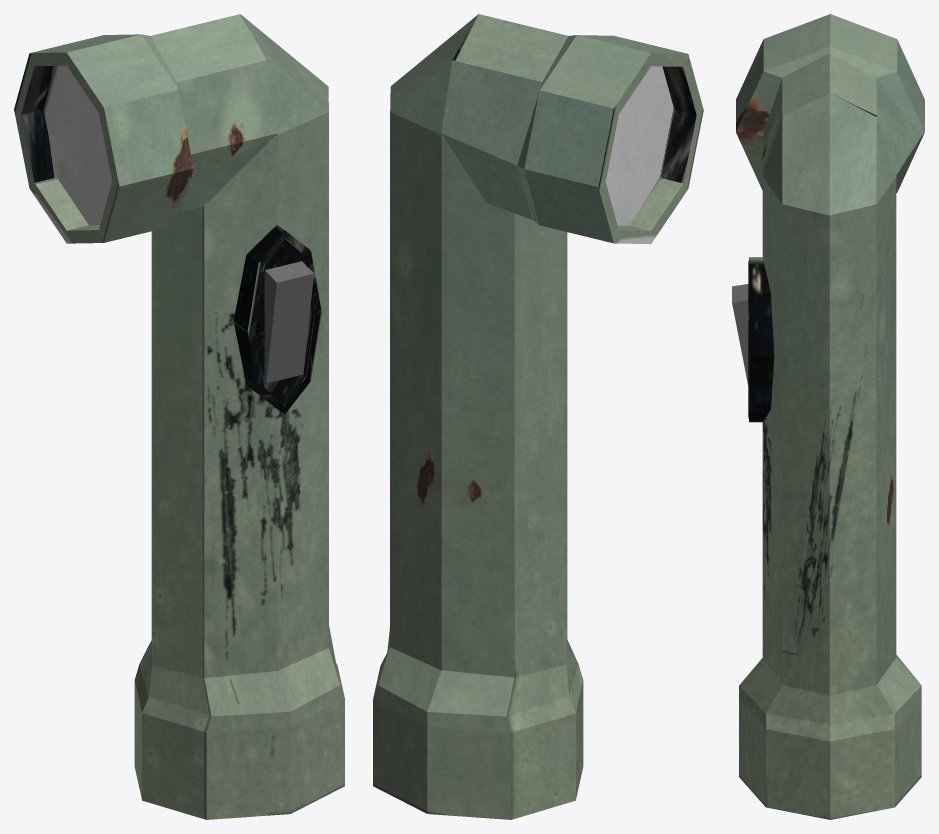
The model's file is FlashLight.glb.
The picture shows the model from 3 angles, left to right: view 1: azimuth 30°, elevation 25°; view 2: azimuth 150°, elevation 25°; view 3: azimuth 270°, elevation 25°; orthographic projection. The views are drawn at different scales.
Visible parts, largest first — view 1: Cylinder, Cylinder.001, Cube; view 2: Cylinder; view 3: Cylinder, Cylinder.001, Cube.
Part boxes in pixels (x1,y1,x2,y2): Cylinder: [14, 14, 344, 819]; Cylinder.001: [233, 224, 321, 414]; Cube: [264, 261, 313, 383]; Cylinder: [373, 14, 703, 819]; Cylinder: [736, 14, 924, 819]; Cylinder.001: [748, 257, 774, 422]; Cube: [732, 284, 748, 385].
Bounding box in the file's own units: 1.91 × 5.15 × 1.31.
Materials: 1 (1 with a texture image).
